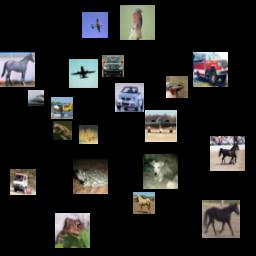airplane: (145, 110, 177, 142), (69, 59, 98, 88), (82, 12, 108, 38), (51, 97, 73, 119)
automobile: (115, 83, 144, 112), (102, 55, 124, 77)
bird: (120, 5, 155, 40)
deer: (79, 125, 98, 144)
dog: (143, 154, 178, 189)
frog: (73, 159, 108, 194), (55, 213, 90, 248), (166, 76, 188, 98), (53, 121, 72, 140)
ship: (28, 90, 44, 106)
truck: (193, 52, 228, 87), (10, 169, 36, 195)
